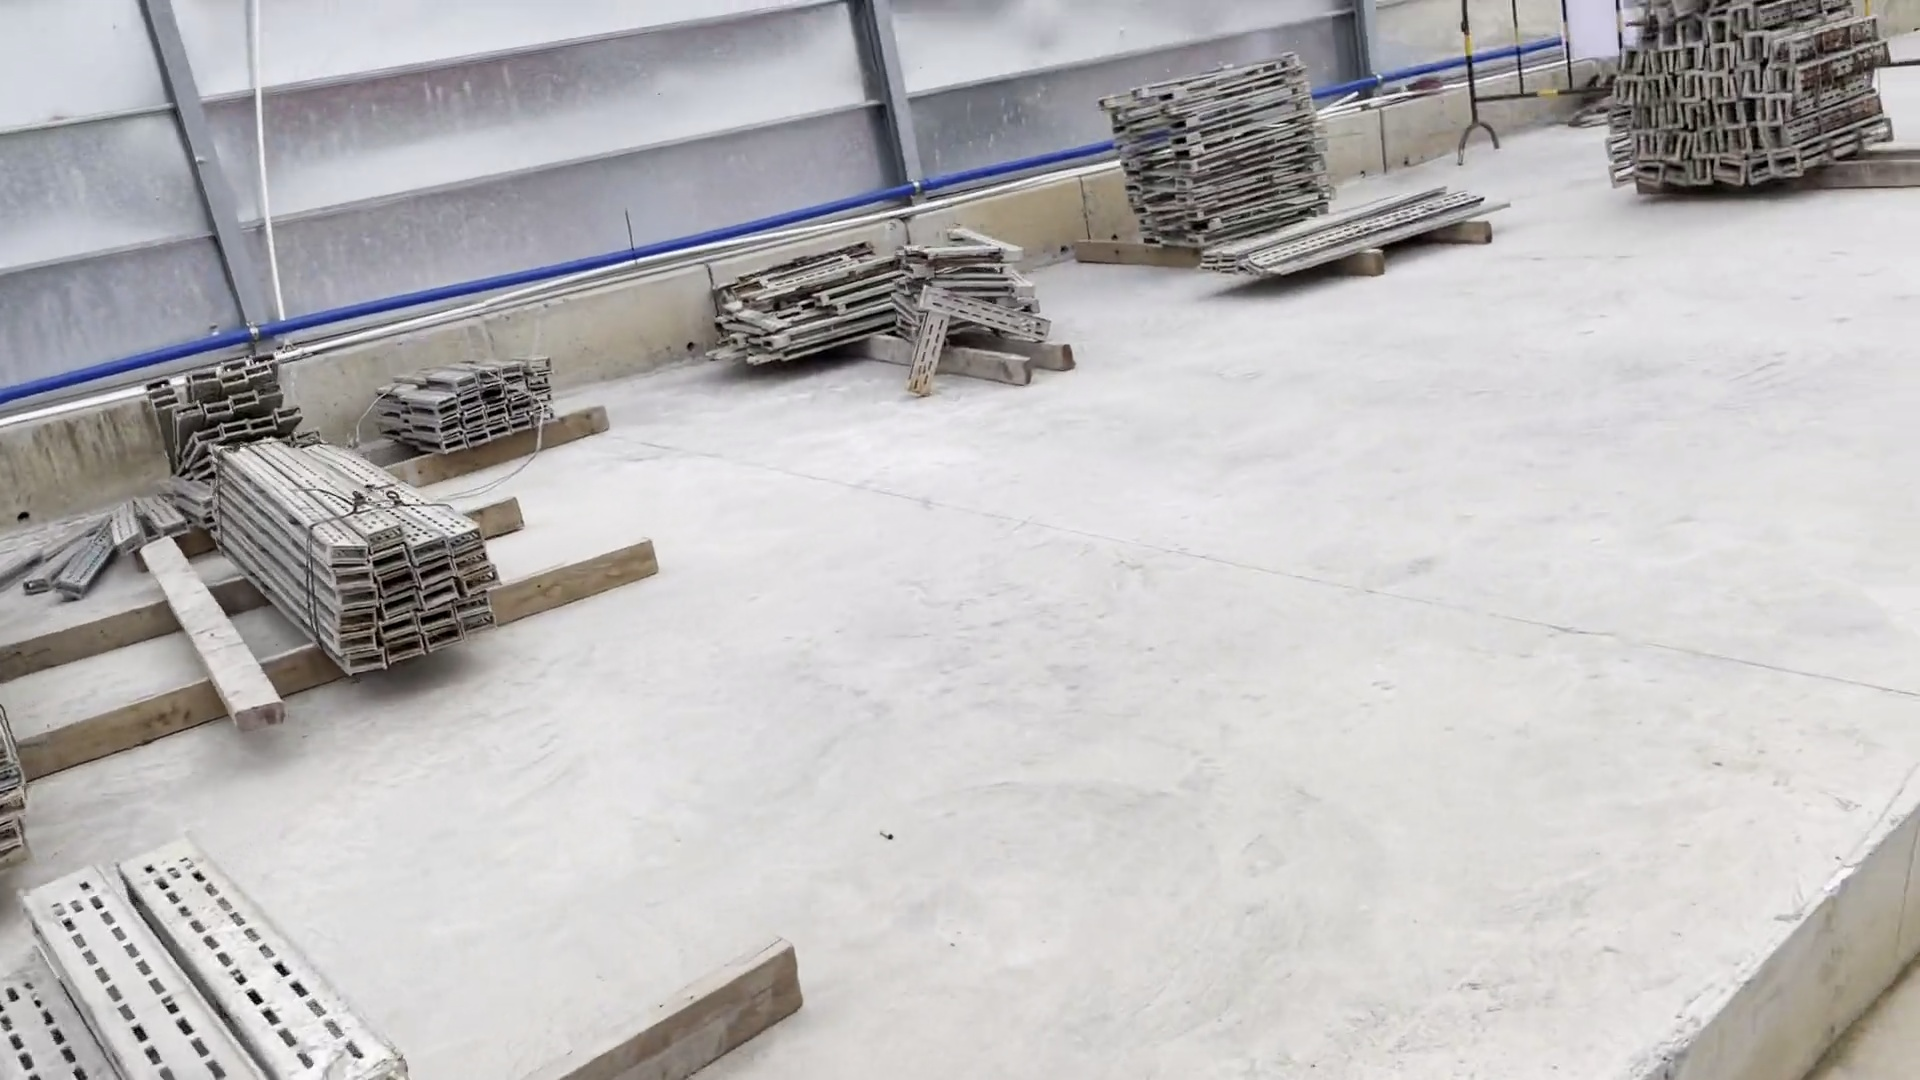fence: (1447, 3, 1640, 162)
